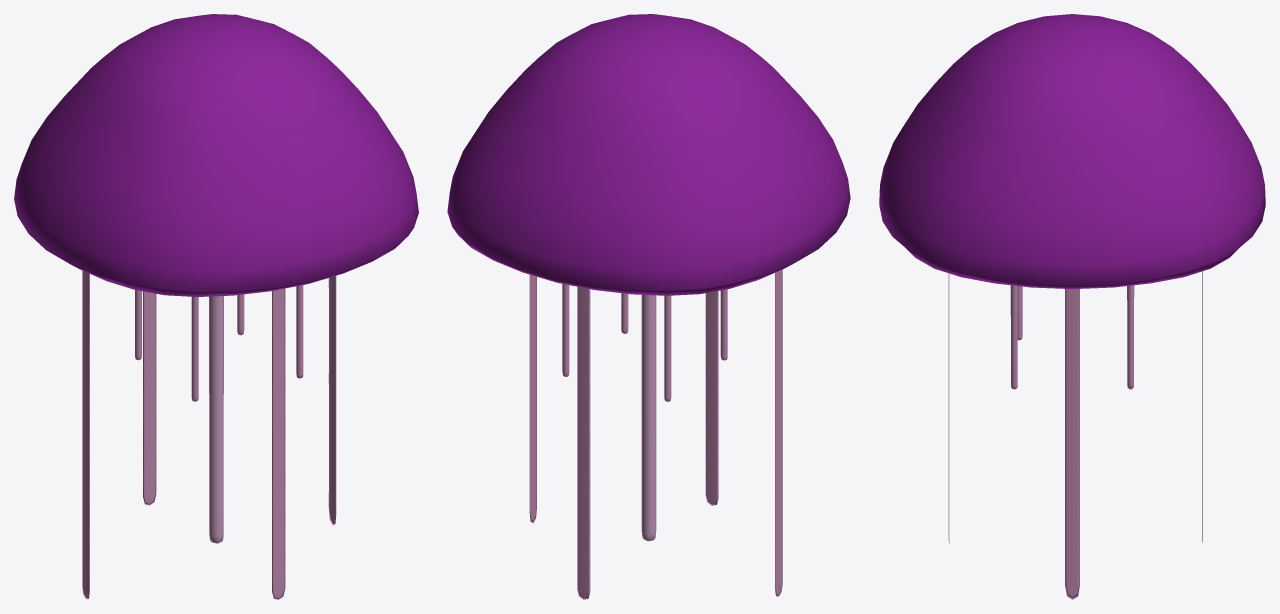
File: SM_MeduseHighSize3.fbx
The picture shows the model from 3 angles, left to right: view 1: azimuth 30°, elevation 25°; view 2: azimuth 150°, elevation 25°; view 3: azimuth 270°, elevation 25°; orthographic projection.
Parts seen in each view (by area): view 1: SM_meduse_high2; view 2: SM_meduse_high2; view 3: SM_meduse_high2.
Boxes of the visible parts, x1,y1,x2,y2 form: SM_meduse_high2: [14, 14, 418, 599]; SM_meduse_high2: [447, 14, 850, 599]; SM_meduse_high2: [879, 14, 1265, 599].
Size of the model in its own units: 16.8 by 25.32 by 16.8.
